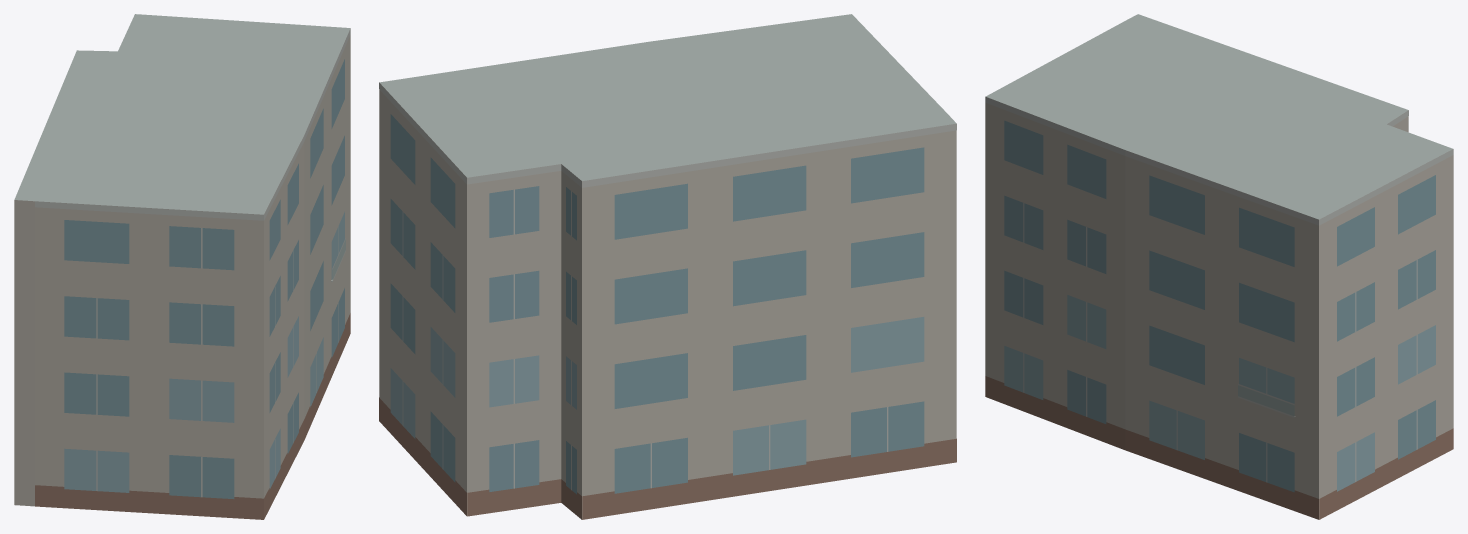
File: survey-upis-32678481.glb
3 renders of one model, left to right at view 1: azimuth 30°, elevation 25°; view 2: azimuth 150°, elevation 25°; view 3: azimuth 270°, elevation 25°, orthographic. The views are drawn at different scales.
Visible parts, largest first — view 1: survey-upis-32678481.tmp; view 2: survey-upis-32678481.tmp; view 3: survey-upis-32678481.tmp.
Boxes of the visible parts, bbox=[...] form: survey-upis-32678481.tmp: bbox=[14, 14, 350, 519]; survey-upis-32678481.tmp: bbox=[379, 14, 956, 519]; survey-upis-32678481.tmp: bbox=[985, 14, 1453, 519].
Size of the model in its own units: 17.93 by 12.2 by 17.25.
